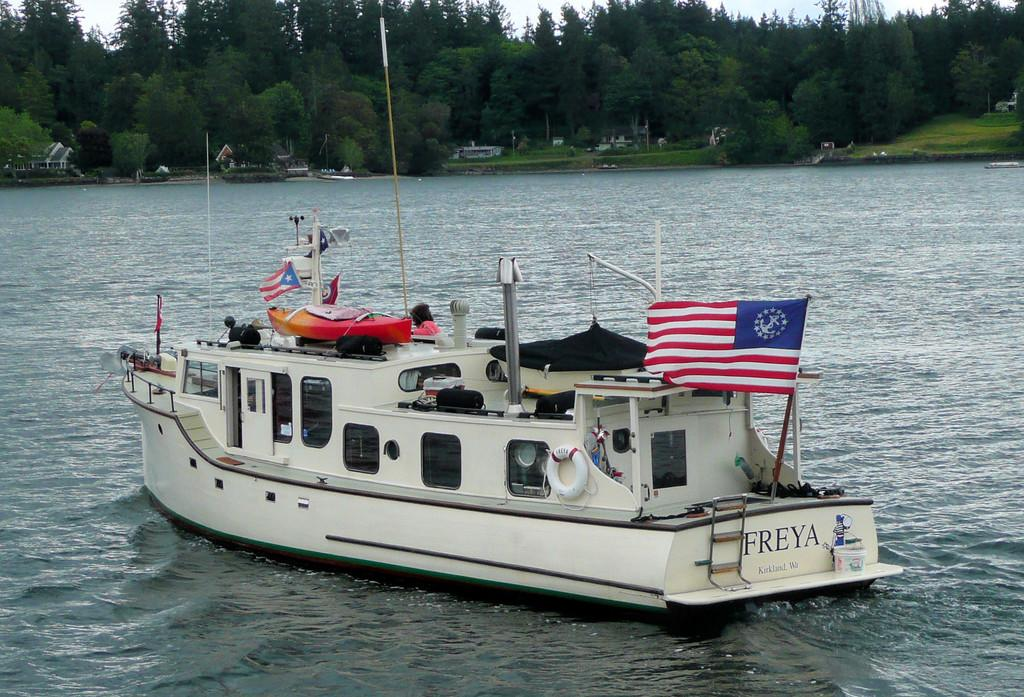PassengerShip: (112, 198, 890, 622)
